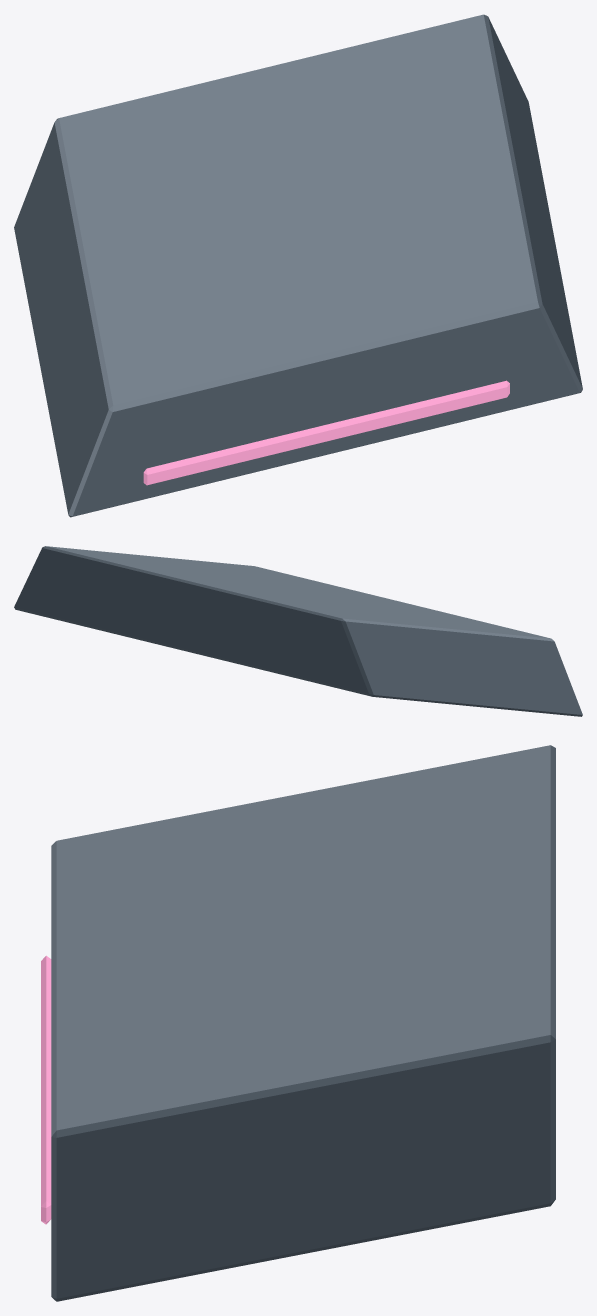
Rendered from Plate3D_Base.gltf.
3 views of the same model, one above another, from view 1: azimuth 30°, elevation 25°; view 2: azimuth 150°, elevation 25°; view 3: azimuth 270°, elevation 25° (orthographic). The views are drawn at different scales.
Parts seen in each view (by area): view 1: Plate3D_Base_baked; view 2: Plate3D_Base_baked; view 3: Plate3D_Base_baked.
Part boxes in pixels (x1,y1,x2,y2): Plate3D_Base_baked: [14, 14, 582, 517]; Plate3D_Base_baked: [14, 546, 582, 716]; Plate3D_Base_baked: [41, 745, 555, 1301].
Size of the model in its own units: 1.18 by 0.4072 by 0.592.
